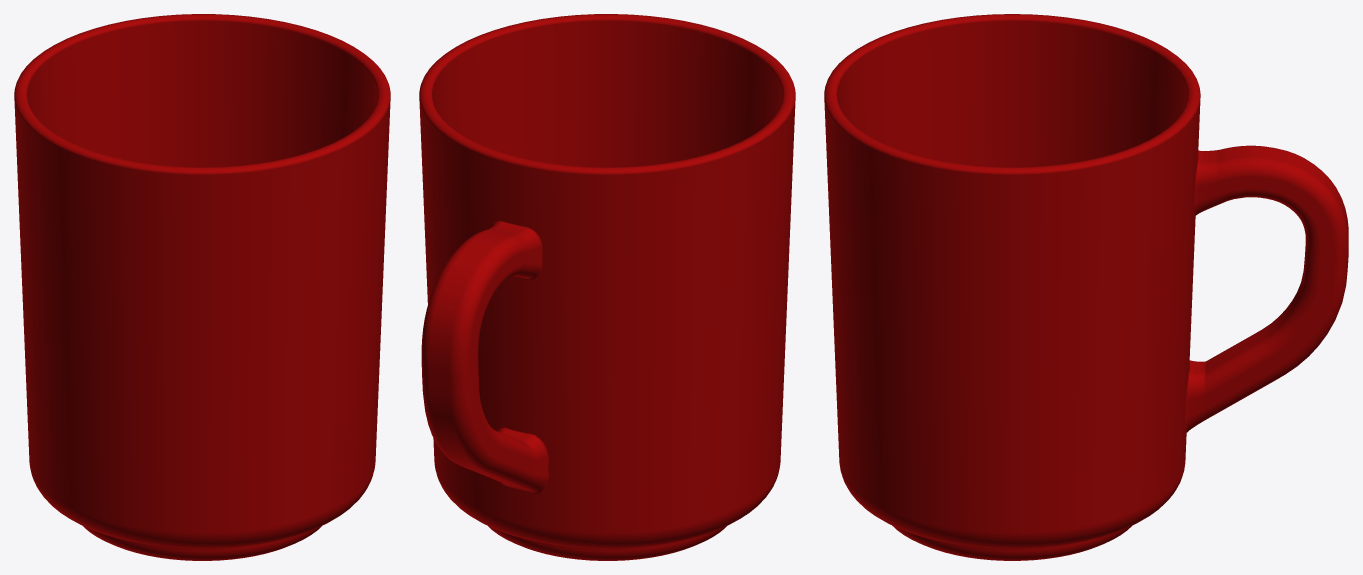
File: tulipcoffee.glb
3 renders of one model, left to right at view 1: azimuth 30°, elevation 25°; view 2: azimuth 150°, elevation 25°; view 3: azimuth 270°, elevation 25°, orthographic.
Visible parts, largest first — view 1: TrimSrf (×2); view 2: TrimSrf (×2); view 3: TrimSrf (×2).
Boxes of the visible parts, <box> form: TrimSrf (×2): <box>14,14,390,560</box>; TrimSrf (×2): <box>419,14,795,560</box>; TrimSrf (×2): <box>824,14,1348,560</box>.
Bounding box in the file's own units: 0.07 × 0.0858 × 0.0976.
